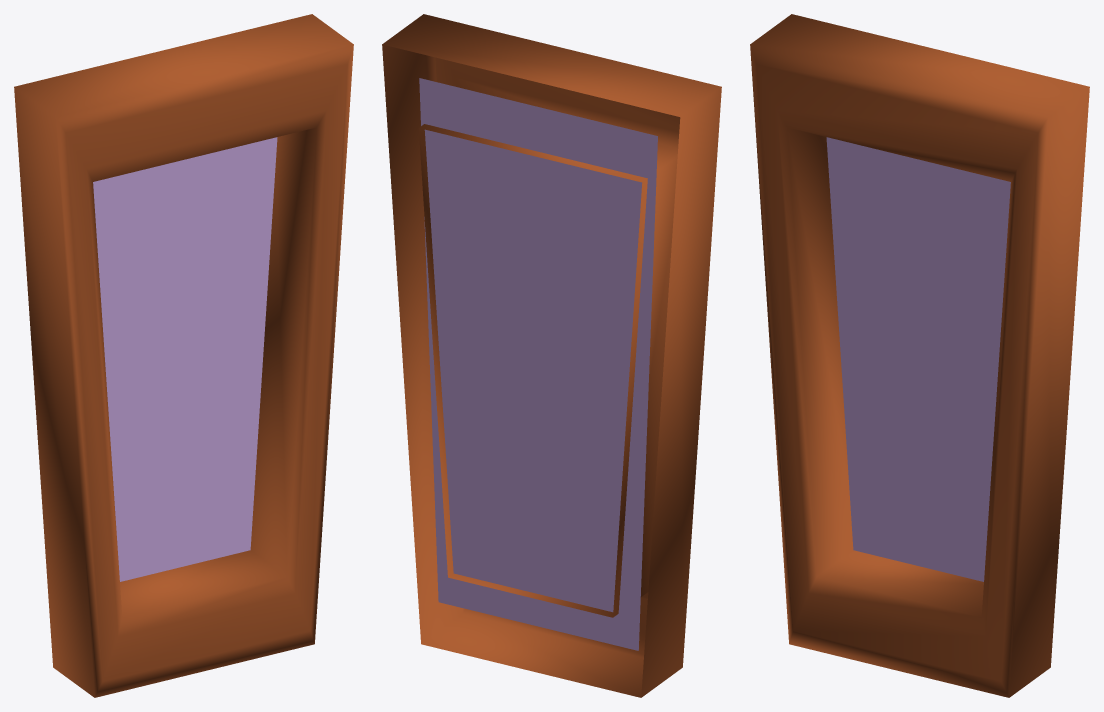
The model's file is props_wall_painting_frame_10.fbx.
3 renders of one model, left to right at view 1: azimuth 30°, elevation 25°; view 2: azimuth 150°, elevation 25°; view 3: azimuth 330°, elevation 25°, orthographic.
Visible parts, largest first — view 1: Cube.111; view 2: Cube.111; view 3: Cube.111.
Part boxes in pixels (x1,y1,x2,y2): Cube.111: (14, 14, 353, 697); Cube.111: (382, 14, 721, 697); Cube.111: (750, 14, 1089, 697).
Size of the model in its own units: 72.28 by 137 by 18.57.
